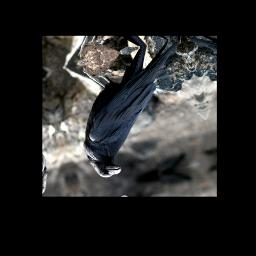Crow: (61, 36, 212, 182)
